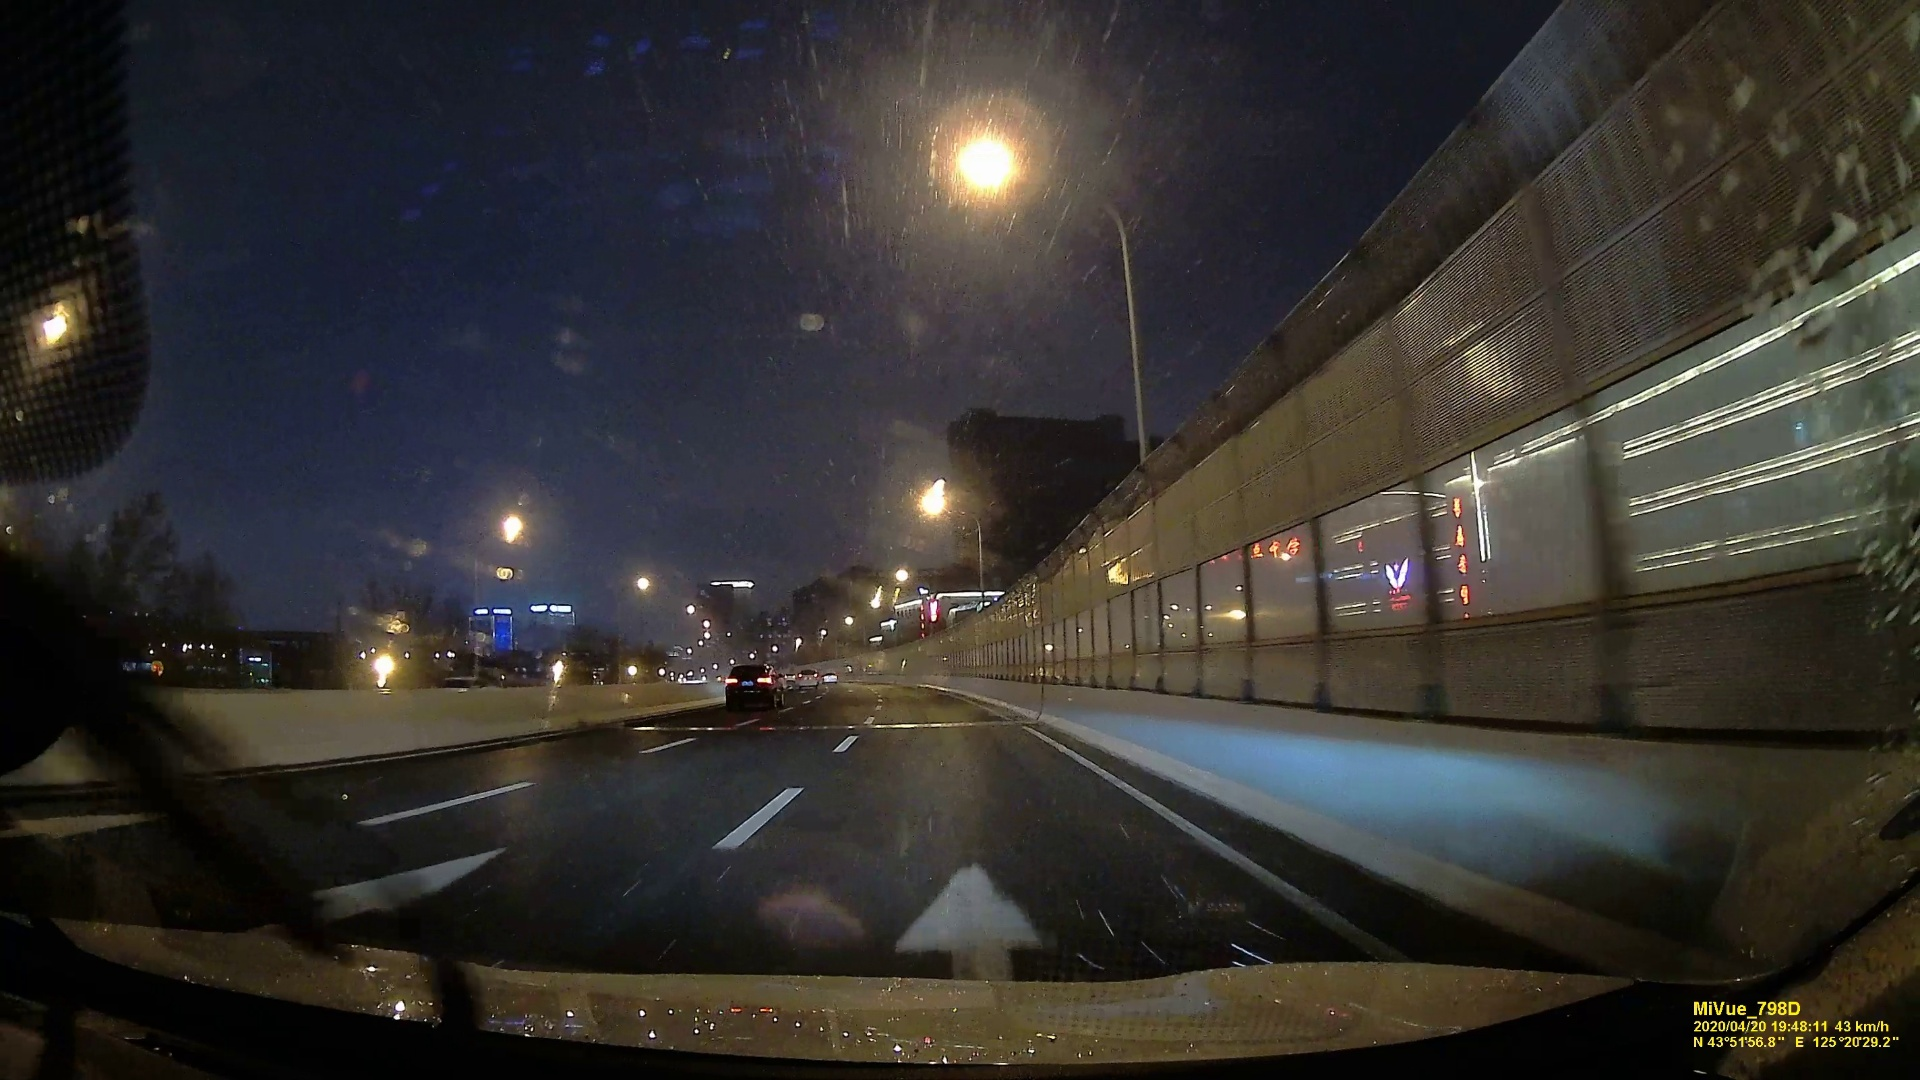minibus: (796, 669, 818, 688)
vehicle: (723, 661, 785, 711)
